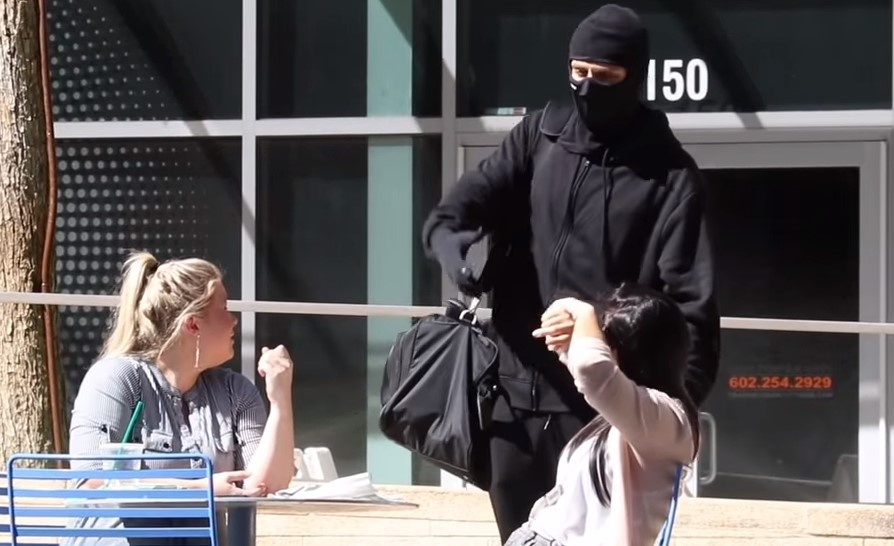face_no_mask: (110, 251, 244, 380)
